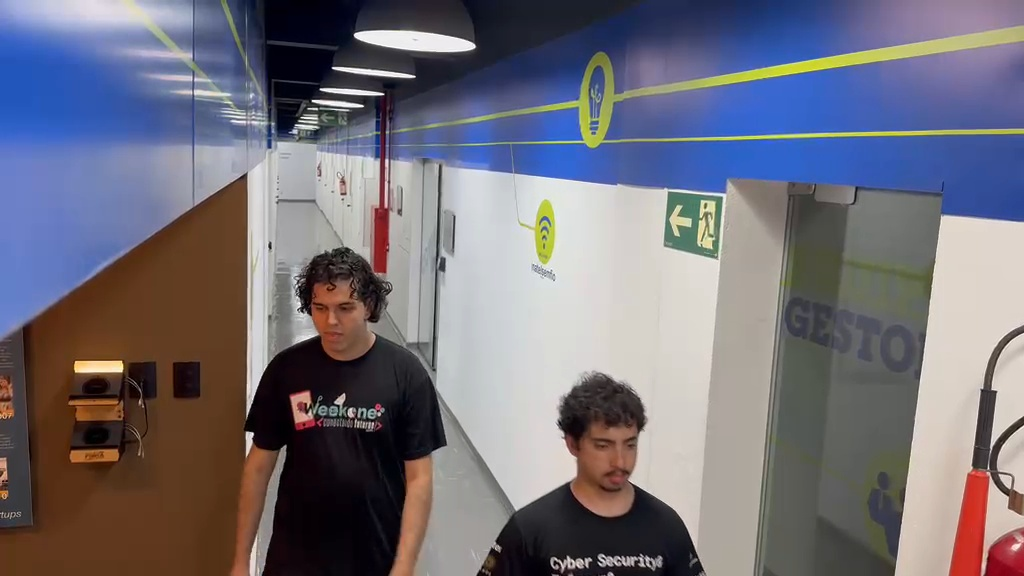person: (231, 246, 445, 572), (479, 370, 706, 574)
